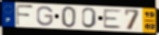0: (80, 7, 98, 29), (61, 6, 78, 29)
7: (124, 8, 141, 31)
E: (102, 9, 123, 30)
F: (15, 3, 35, 26)
G: (36, 5, 54, 27)
